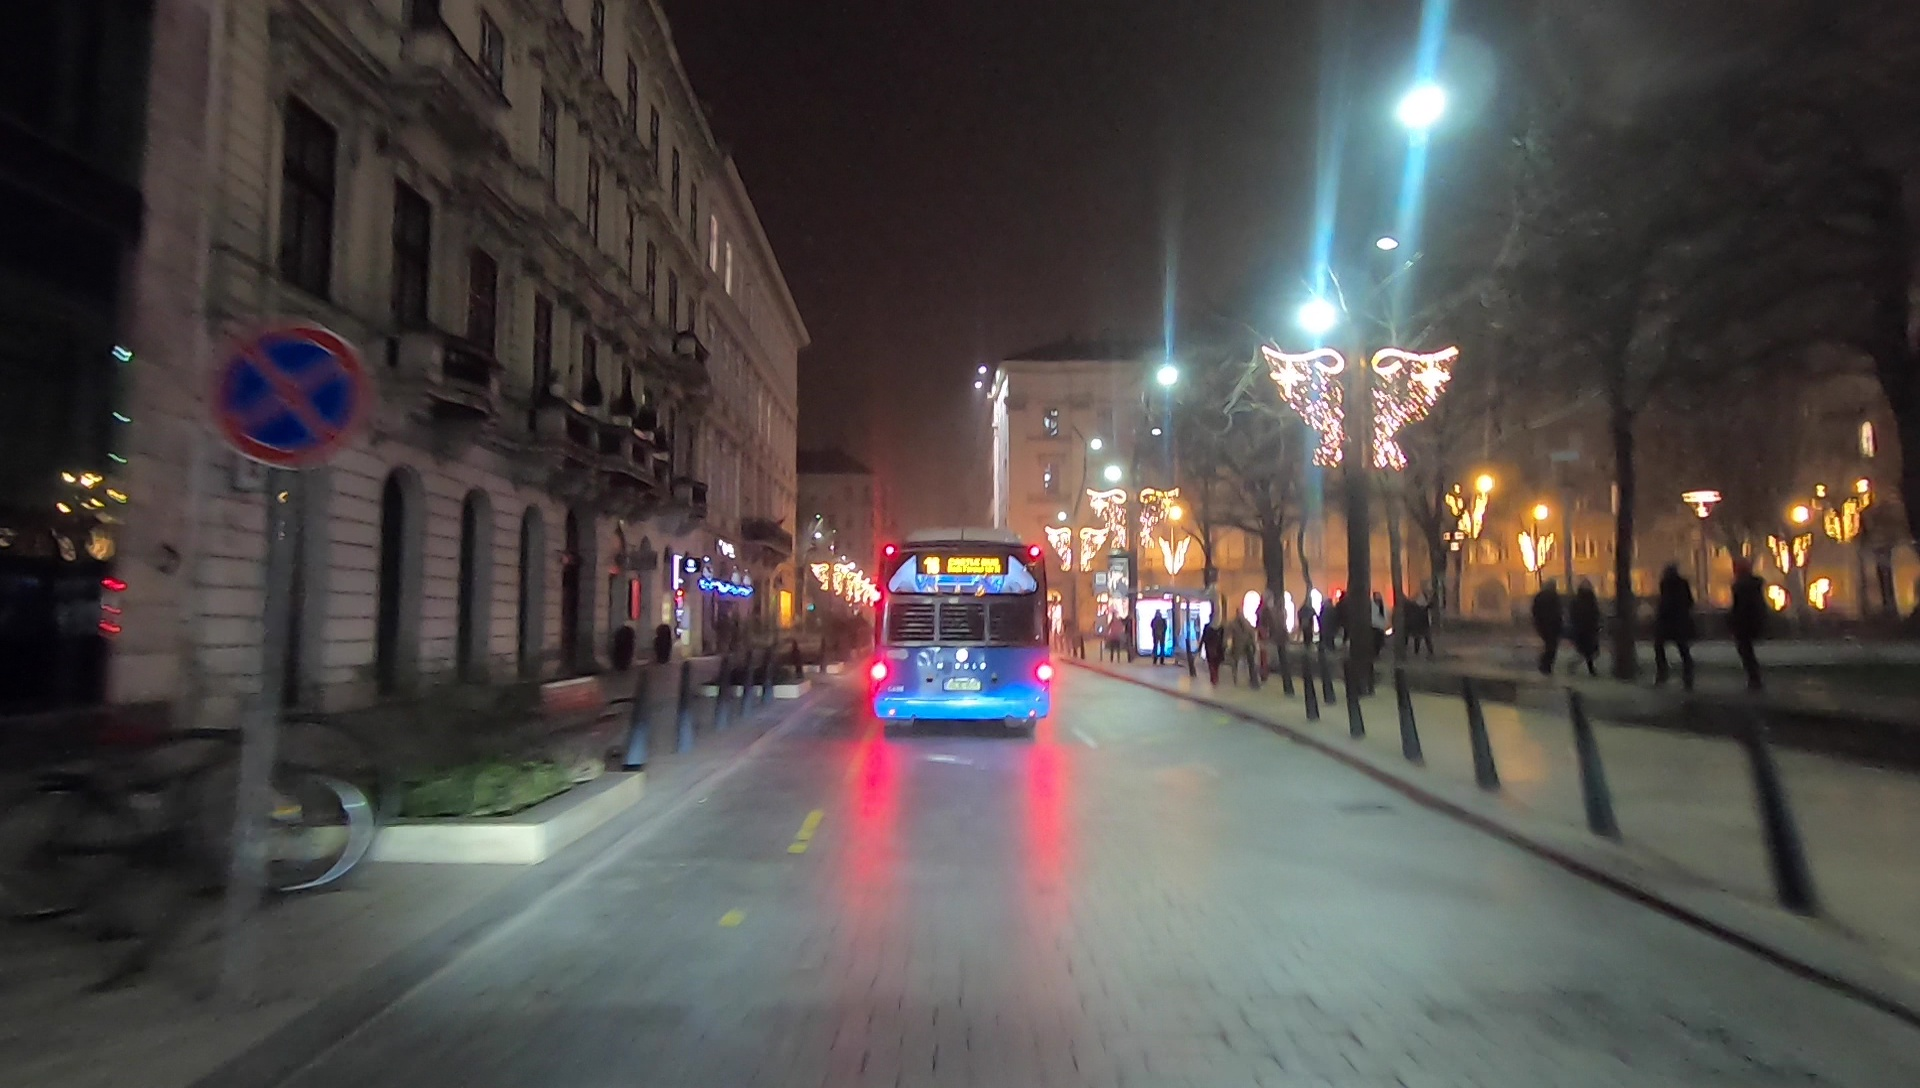person: (1726, 559, 1773, 697), (1646, 563, 1697, 686), (1529, 577, 1564, 676), (1568, 576, 1598, 676), (1226, 609, 1255, 685), (1406, 587, 1434, 660), (1201, 614, 1225, 682), (1366, 587, 1387, 661), (1318, 595, 1338, 659), (1297, 597, 1317, 648), (1150, 613, 1167, 660)
